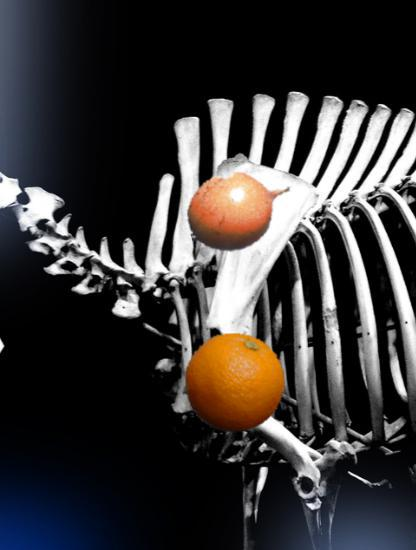Granadilla: (185, 153, 297, 265)
Orange: (182, 332, 285, 435)
